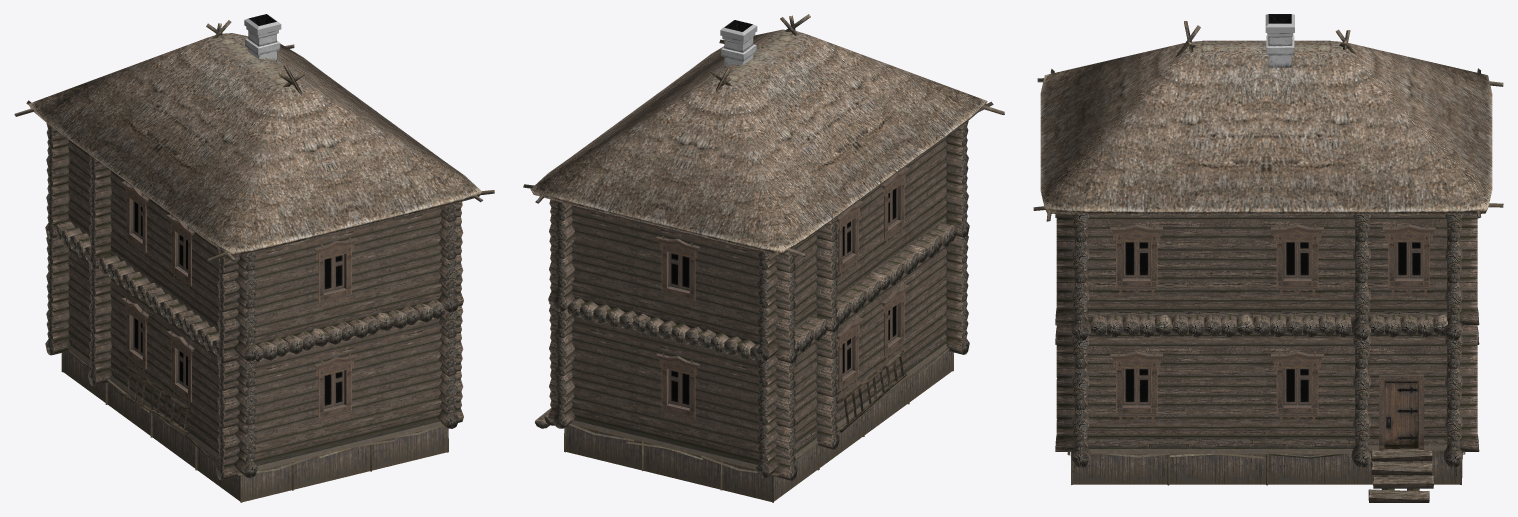
The model's file is house_4.fbx.
3 views of the same model, side by side, from view 1: azimuth 30°, elevation 25°; view 2: azimuth 150°, elevation 25°; view 3: azimuth 270°, elevation 25° (orthographic). The views are drawn at different scales.
Visible parts, largest first — view 1: House_4; view 2: House_4; view 3: House_4.
Boxes of the visible parts, x1=… form: House_4: x1=14, y1=14, x2=494, y2=502; House_4: x1=523, y1=14, x2=1004, y2=502; House_4: x1=1033, y1=14, x2=1503, y2=502.
Size of the model in its own units: 952 by 1188 by 1209.
Materials: 1 (1 with a texture image).
